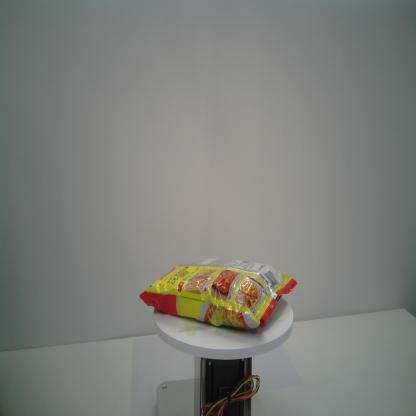Instant Noodles: (138, 257, 299, 333)
